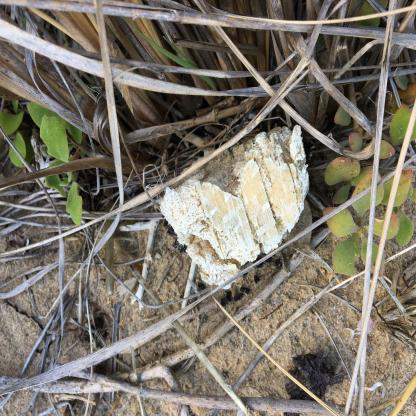trash: (90, 120, 266, 302)
